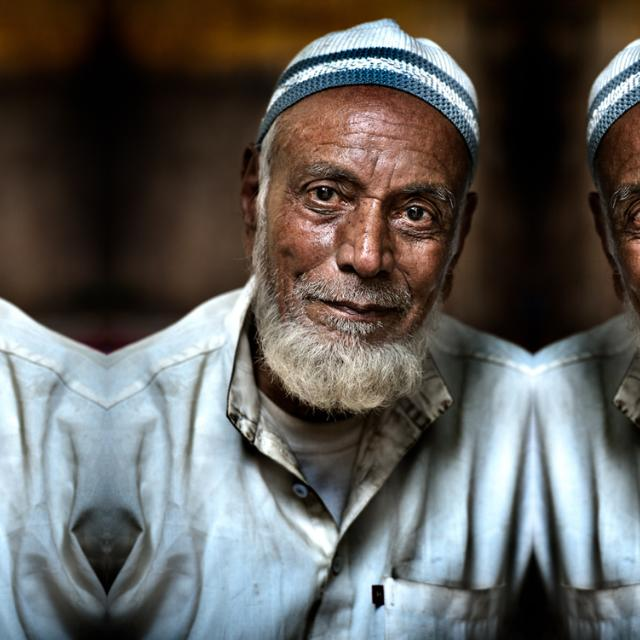person: (207, 2, 498, 432), (566, 2, 640, 431), (0, 2, 4, 431)
